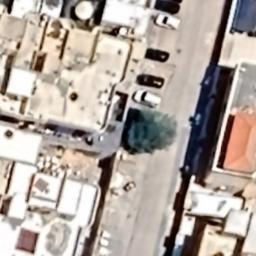sedan: (136, 70, 168, 90)
unknown: (140, 42, 175, 66)
van: (132, 88, 164, 110), (154, 11, 184, 33)
